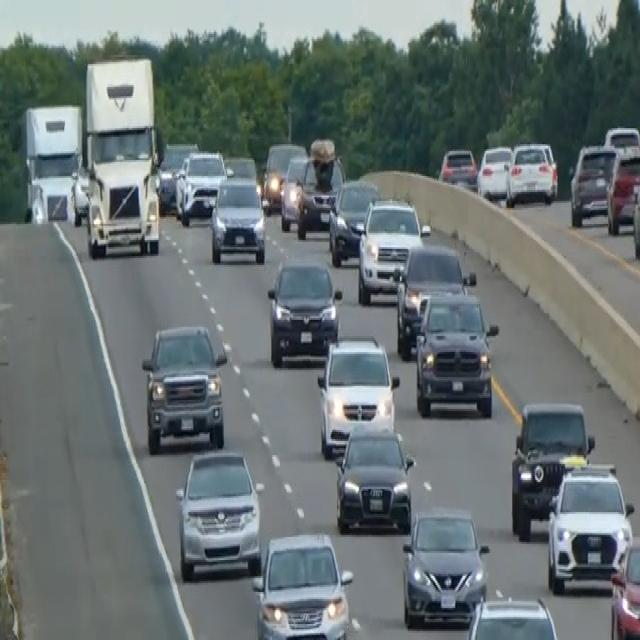car: (510, 398, 594, 539), (546, 460, 634, 594), (174, 446, 261, 580), (414, 286, 499, 418), (251, 530, 353, 638), (401, 505, 489, 627), (316, 332, 399, 457), (393, 242, 475, 357), (334, 419, 415, 534), (266, 256, 341, 366), (356, 196, 430, 304), (209, 174, 266, 265), (295, 140, 345, 238), (327, 176, 379, 267), (462, 592, 562, 638), (569, 140, 617, 226), (175, 148, 227, 224), (505, 139, 558, 206), (262, 140, 306, 213), (609, 534, 639, 638), (606, 144, 639, 235), (157, 140, 197, 212), (279, 153, 309, 231), (476, 142, 512, 199), (438, 144, 477, 190), (68, 160, 90, 226), (603, 123, 639, 151), (222, 153, 257, 181), (631, 167, 639, 261)
jeep: (140, 320, 228, 453)
lorry: (81, 53, 164, 258)
